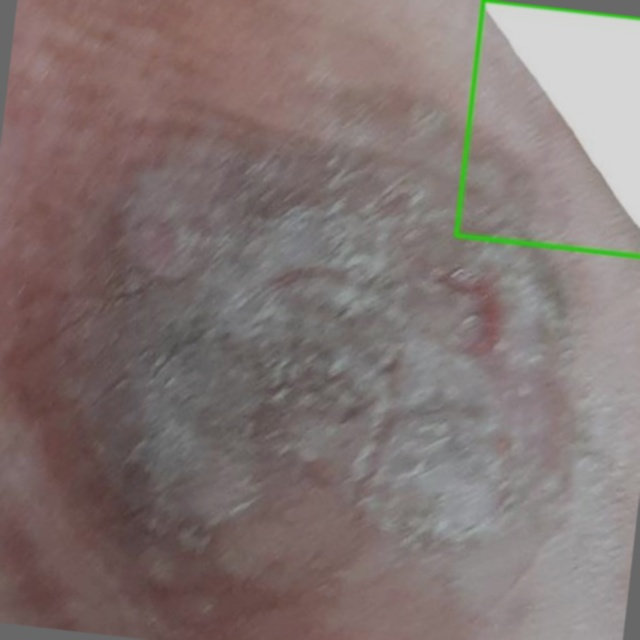Contact Dermatitis: (456, 0, 639, 256)
